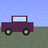vehicle: (1, 16, 33, 35)
